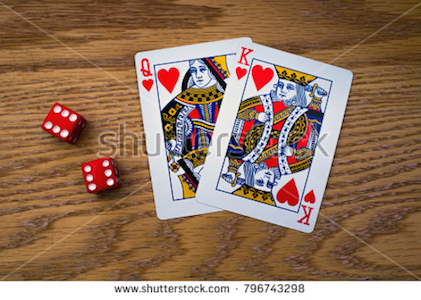KingOfHearts: (221, 40, 356, 235)
QueenOfHearts: (131, 39, 228, 224)
